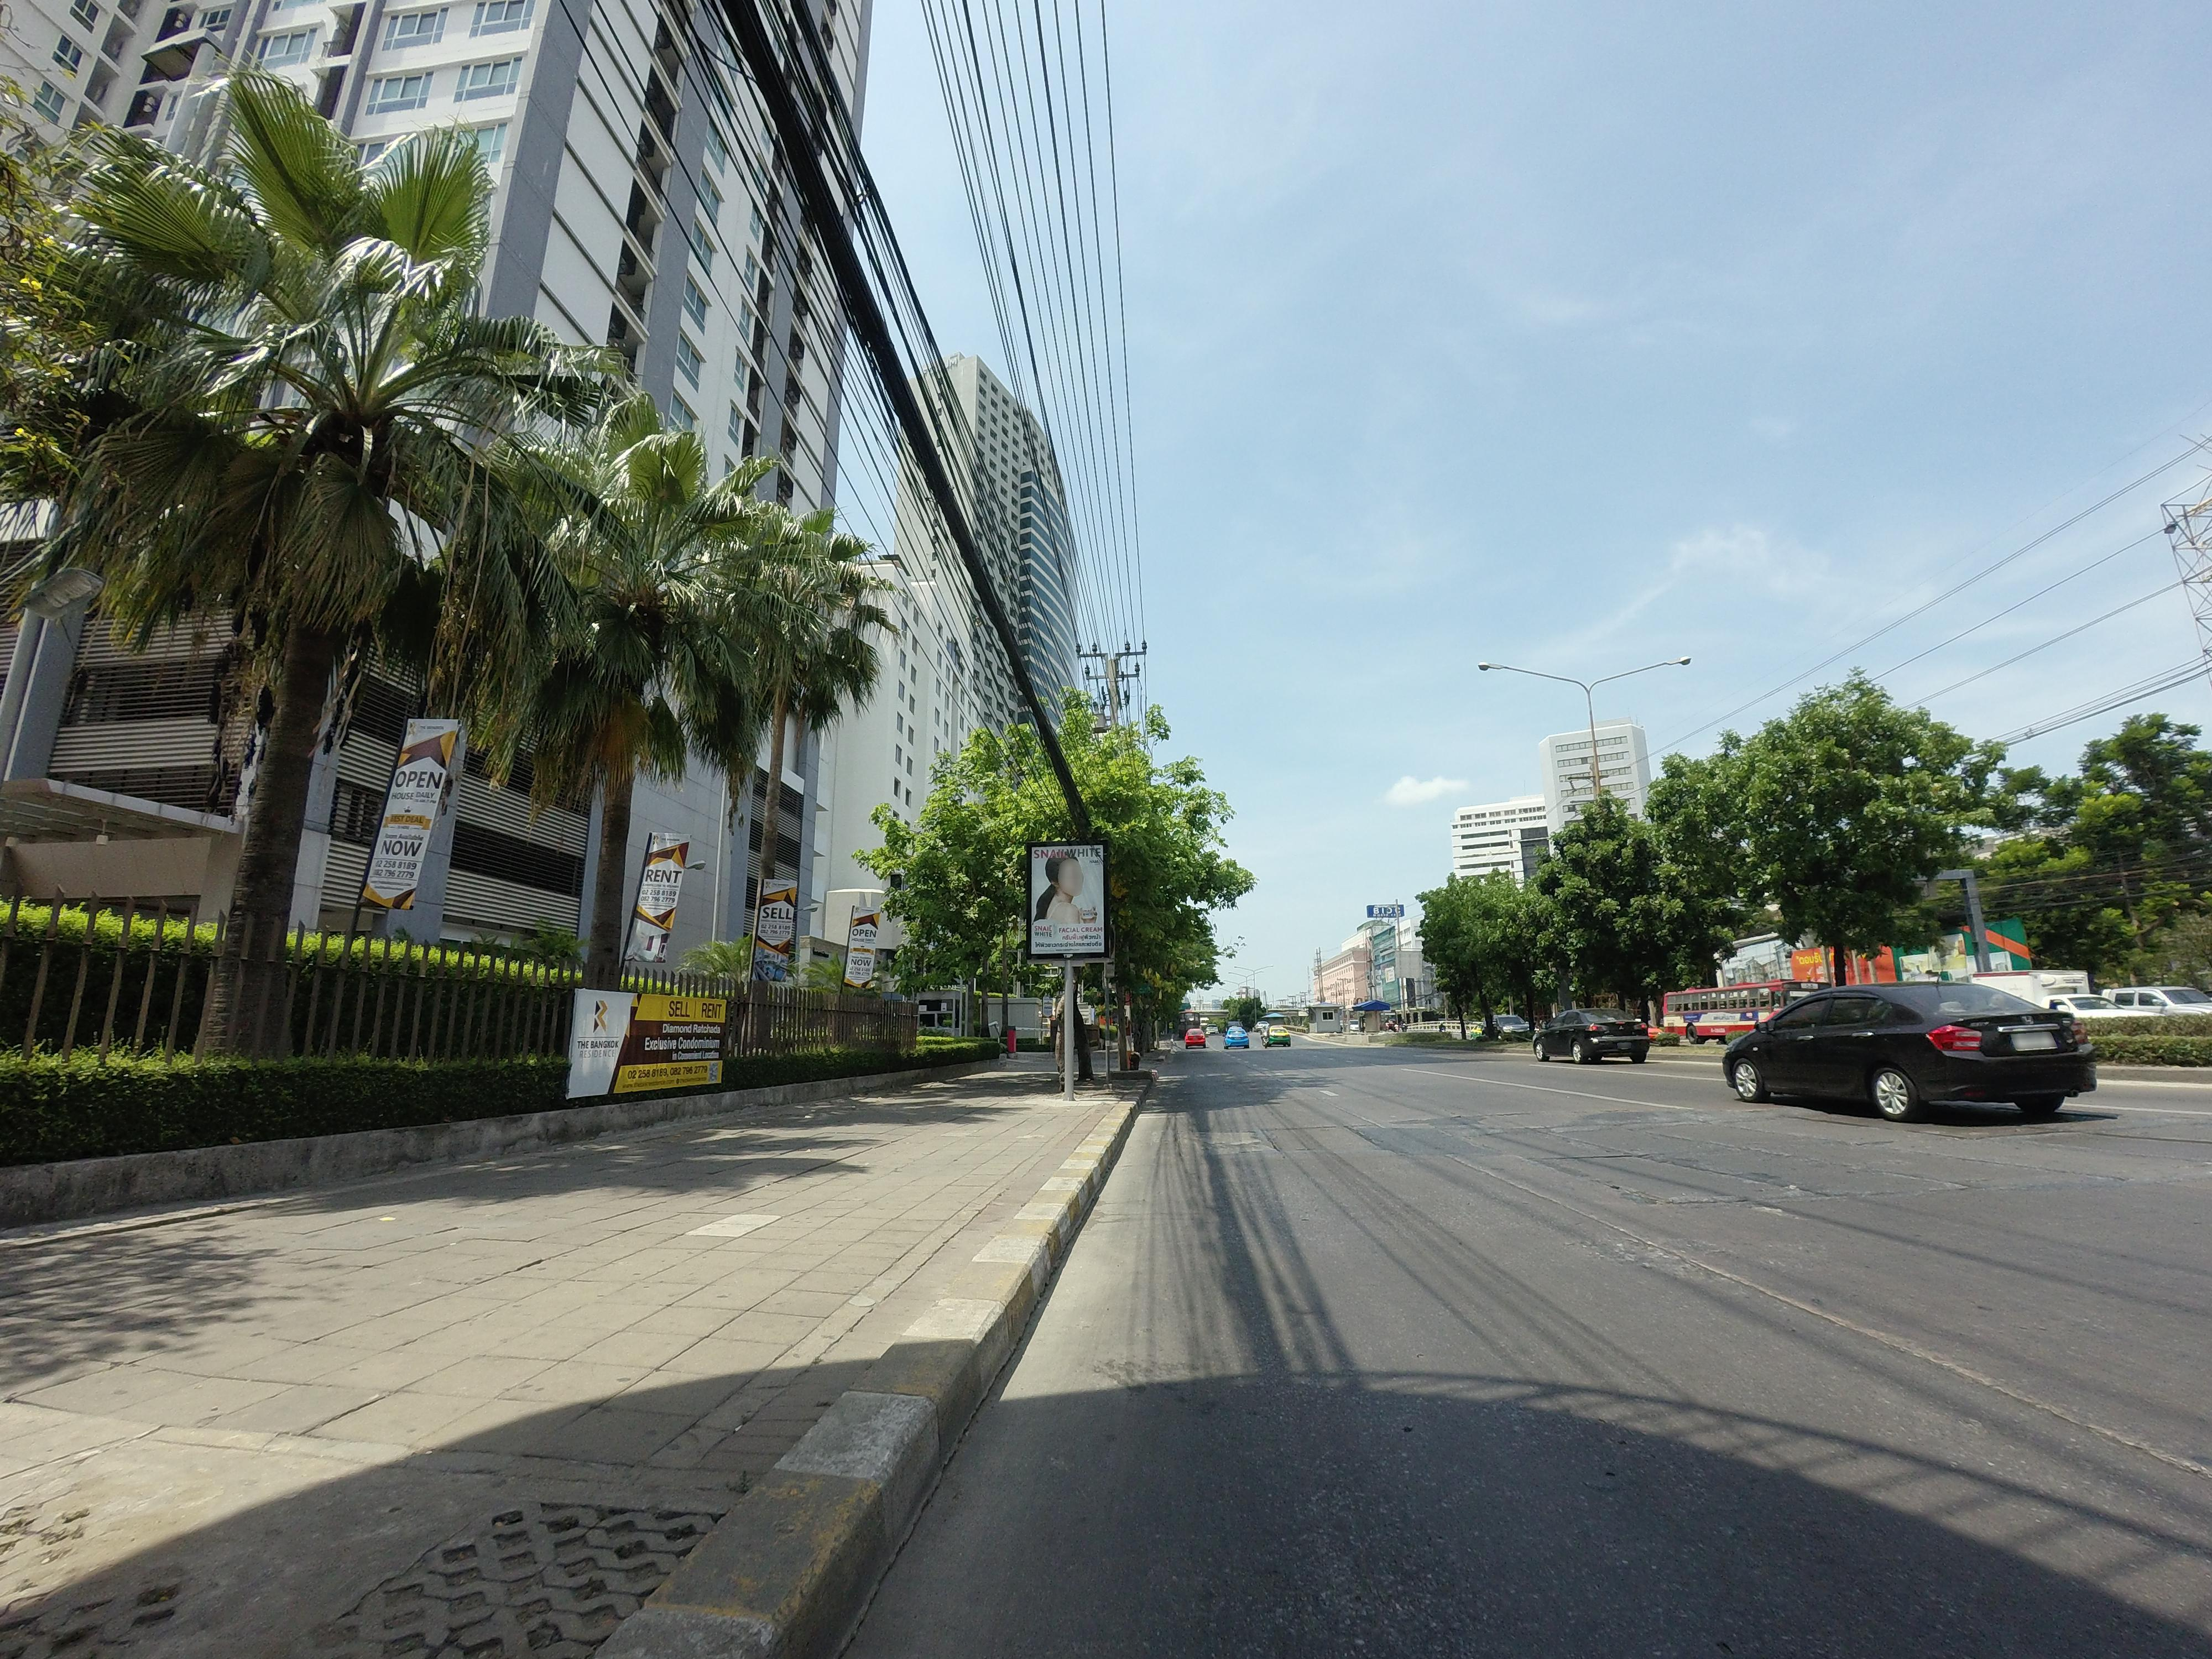vinyl banner: (566, 979, 780, 1127), (347, 692, 465, 929), (620, 793, 685, 967), (747, 852, 808, 985)
